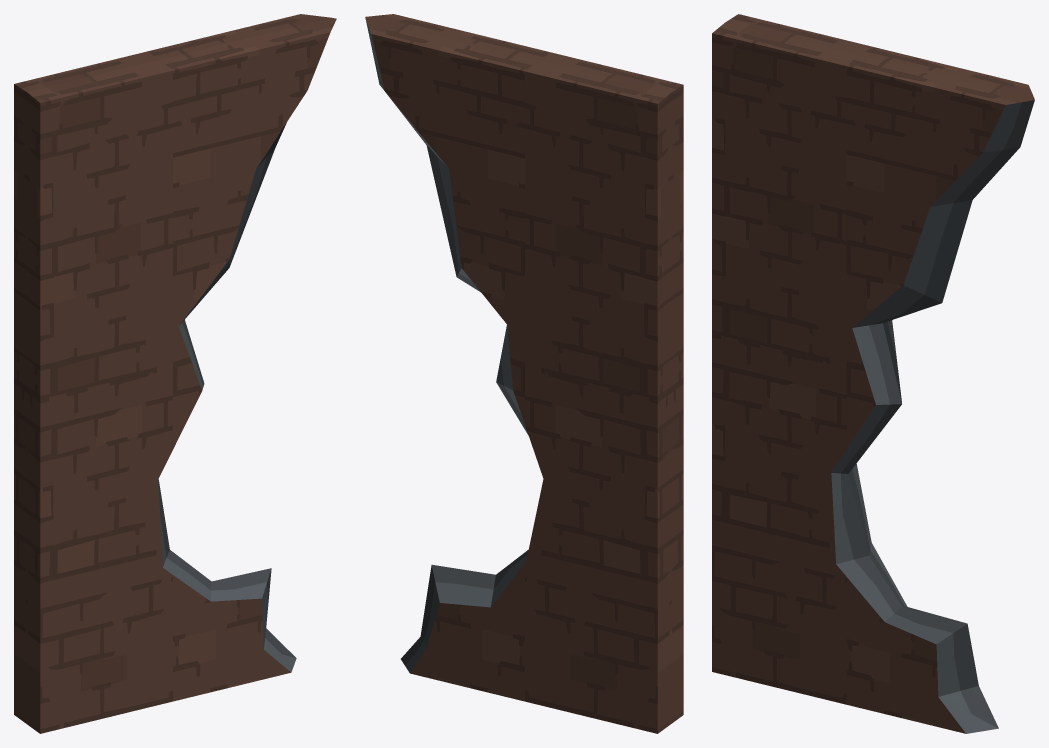
Rendered from SM_Bld_Base_Wall_Destroyed_01.obj.
3 renders of one model, left to right at view 1: azimuth 30°, elevation 25°; view 2: azimuth 150°, elevation 25°; view 3: azimuth 330°, elevation 25°, orthographic.
Visible parts, largest first — view 1: SM_Bld_Base_Wall_Destroyed_01_1, SM_Bld_Base_Wall_Destroyed_01_2, SM_Bld_Base_Wall_Destroyed_01_0; view 2: SM_Bld_Base_Wall_Destroyed_01_2, SM_Bld_Base_Wall_Destroyed_01_1, SM_Bld_Base_Wall_Destroyed_01_0; view 3: SM_Bld_Base_Wall_Destroyed_01_1, SM_Bld_Base_Wall_Destroyed_01_0, SM_Bld_Base_Wall_Destroyed_01_2.
Boxes of the visible parts, x1,y1,x2,y2 form: SM_Bld_Base_Wall_Destroyed_01_1: (27, 18, 336, 733); SM_Bld_Base_Wall_Destroyed_01_2: (14, 14, 331, 723); SM_Bld_Base_Wall_Destroyed_01_0: (158, 122, 296, 672); SM_Bld_Base_Wall_Destroyed_01_2: (366, 19, 670, 733); SM_Bld_Base_Wall_Destroyed_01_1: (365, 14, 683, 723); SM_Bld_Base_Wall_Destroyed_01_0: (365, 18, 528, 672); SM_Bld_Base_Wall_Destroyed_01_1: (712, 22, 1034, 733); SM_Bld_Base_Wall_Destroyed_01_0: (831, 100, 1034, 733); SM_Bld_Base_Wall_Destroyed_01_2: (725, 14, 1033, 97).
Bounding box in the file's own units: 1.53 × 3.01 × 0.225.
Materials: 3 (3 with a texture image).
